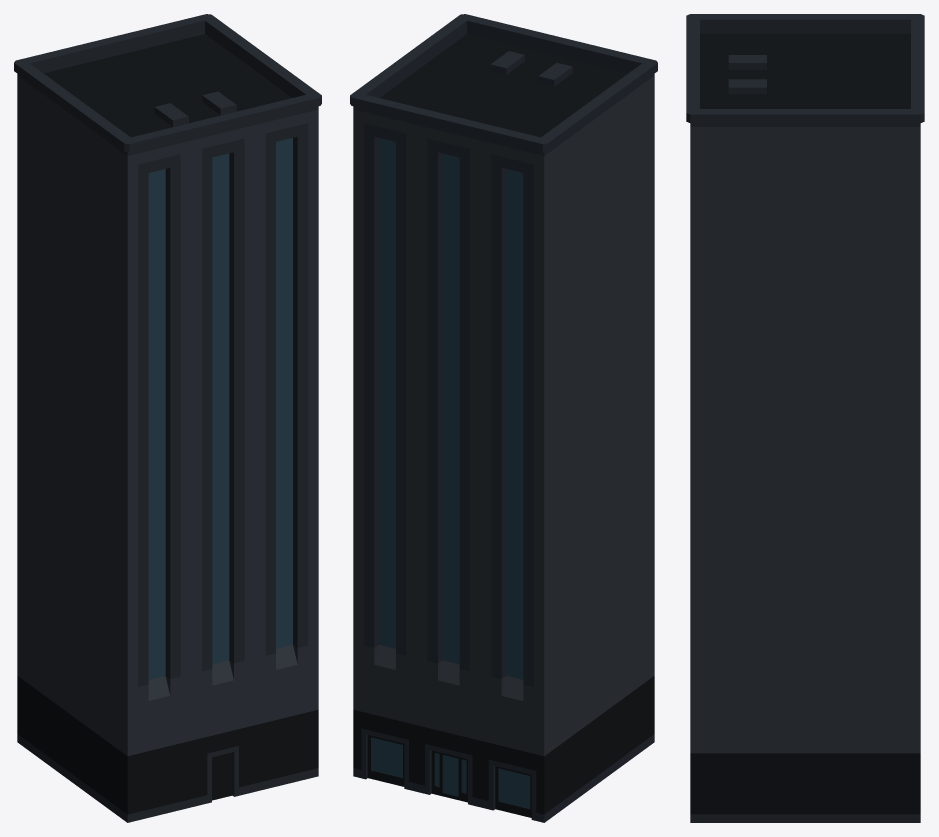
Rendered from tokyo-tower-a.glb.
3 renders of one model, left to right at view 1: azimuth 30°, elevation 25°; view 2: azimuth 150°, elevation 25°; view 3: azimuth 270°, elevation 25°, orthographic. The views are drawn at different scales.
Parts seen in each view (by area): view 1: skyscraperF; view 2: skyscraperF; view 3: skyscraperF.
Part boxes in pixels (left/top/right/bottom): skyscraperF: left=14, top=14, right=321, bottom=822; skyscraperF: left=350, top=14, right=657, bottom=822; skyscraperF: left=686, top=14, right=924, bottom=822.
Bounding box in the file's own units: 1.24 × 4.08 × 1.24.
